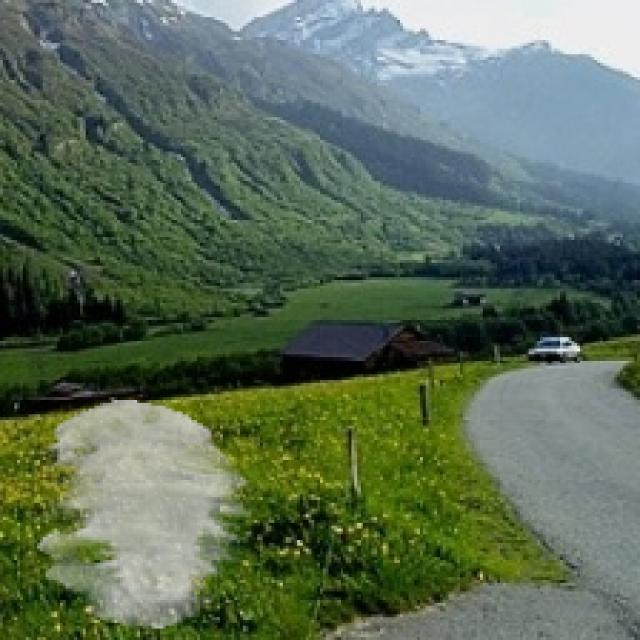smoke: (37, 400, 252, 629)
